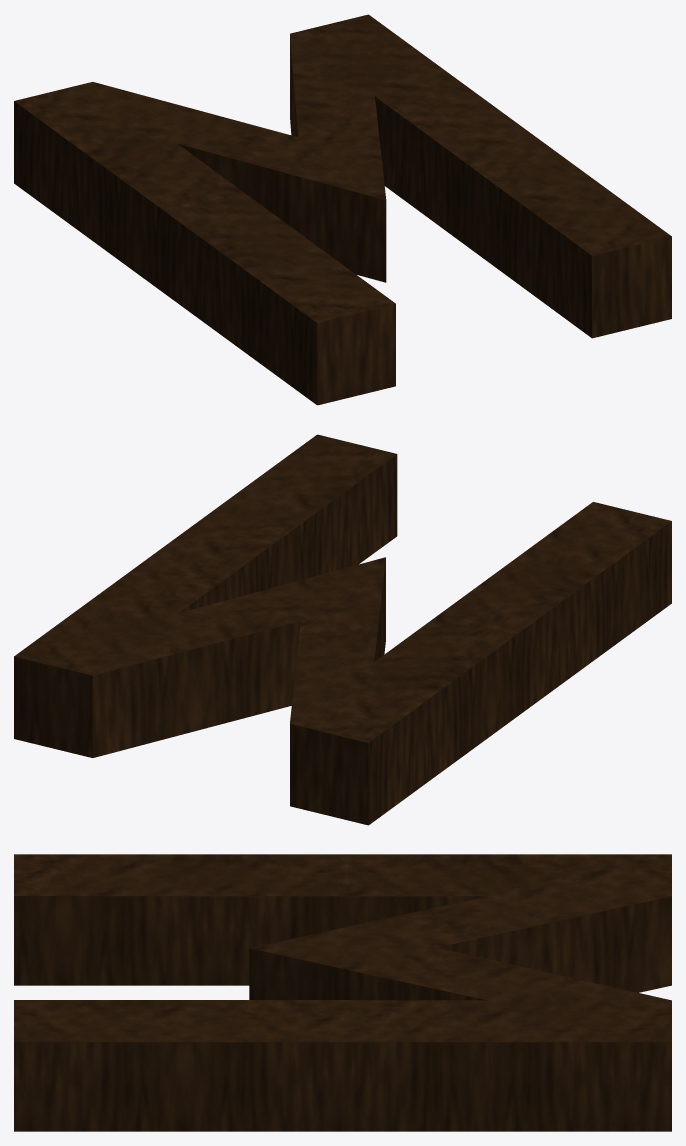
Rendered from LetterM.obj.
3 renders of one model, top to bottom at view 1: azimuth 30°, elevation 25°; view 2: azimuth 150°, elevation 25°; view 3: azimuth 270°, elevation 25°, orthographic. The views are drawn at different scales.
Visible parts, largest first — view 1: LetterM; view 2: LetterM; view 3: LetterM.
Boxes of the visible parts, x1,y1,x2,y2 form: LetterM: (14, 14, 671, 405); LetterM: (14, 434, 671, 825); LetterM: (14, 854, 671, 1131).
Size of the model in its own units: 0.675 by 0.15 by 1.
